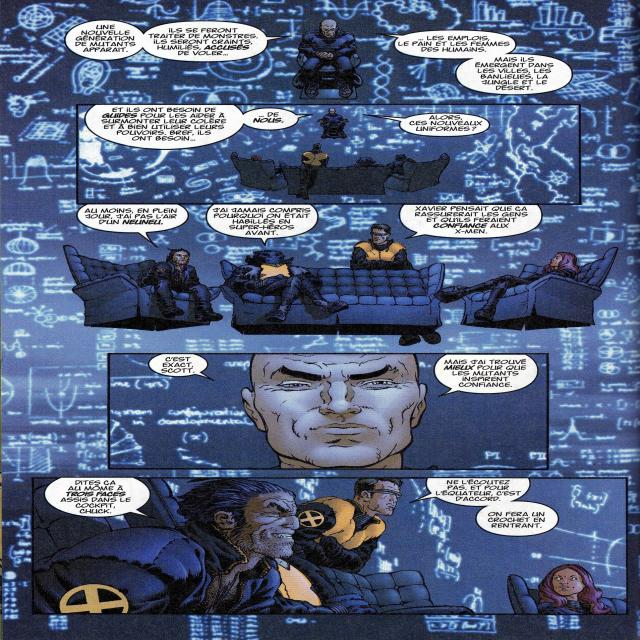comic_panel: (0, 202, 640, 356), (32, 477, 630, 616), (0, 0, 640, 106), (108, 353, 550, 471), (77, 104, 582, 205)
